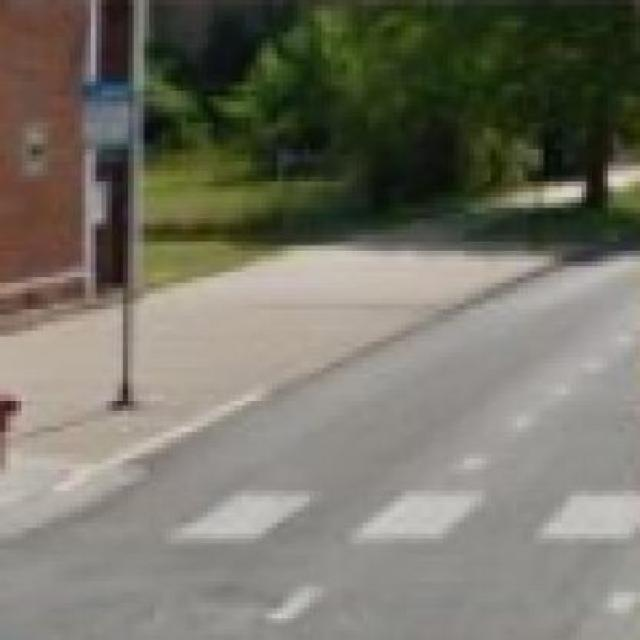crosswalk: (163, 487, 640, 543)
